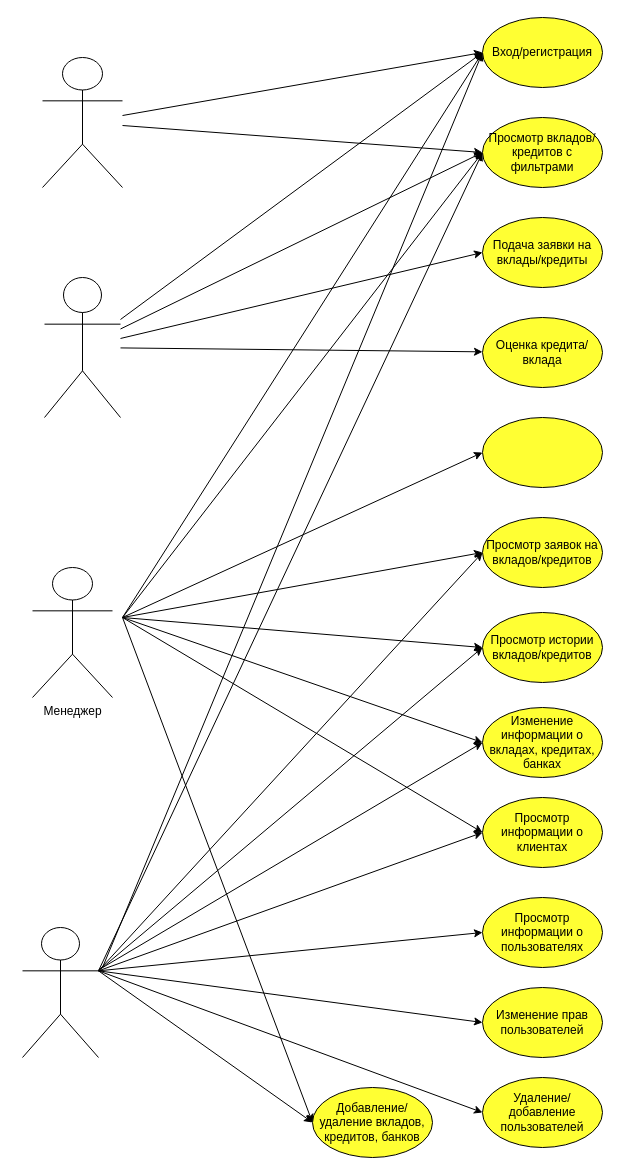
Some shapes in this 620 by 1175 pixel diagram are drawn without their labels. The centre of each missing label's shape, as x and y in pixels:
"Администратор" goes at [60,992].
"Клиент" goes at [82,347].
"Неавторизованный пользователь" goes at [82,122].
"Одобрение/отклонение заявок на вклады/кредиты" goes at [542,452].
